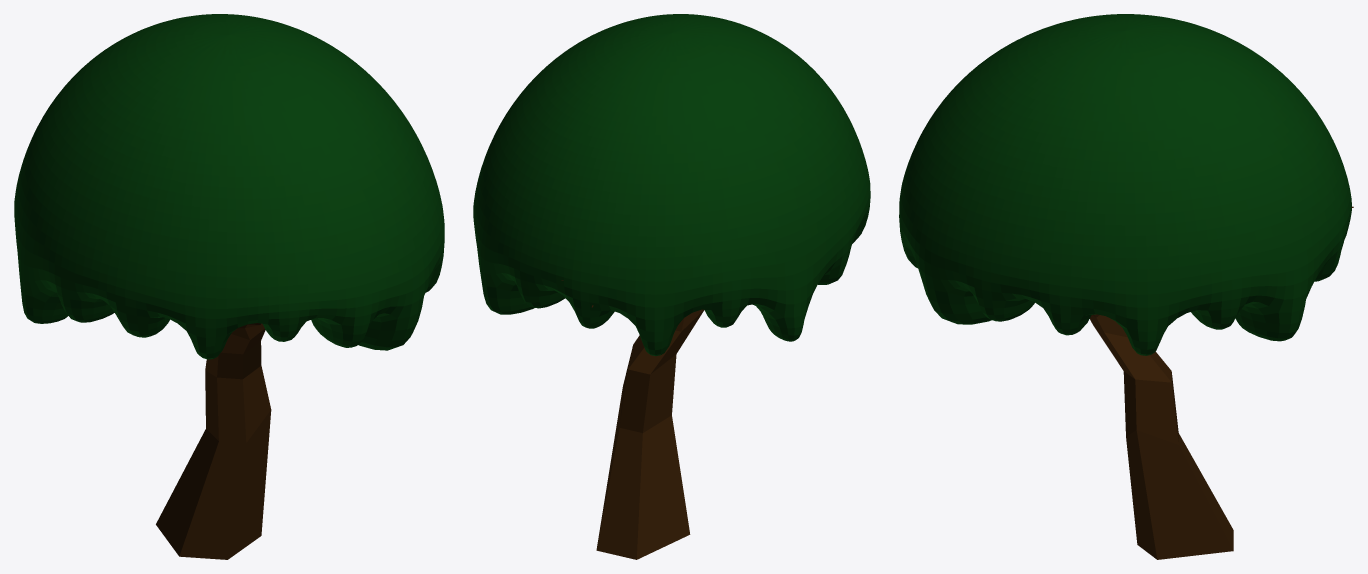
The model's file is WillowTree.fbx.
3 renders of one model, left to right at view 1: azimuth 30°, elevation 25°; view 2: azimuth 150°, elevation 25°; view 3: azimuth 270°, elevation 25°, orthographic. The views are drawn at different scales.
Parts seen in each view (by area): view 1: Tree, Trunk; view 2: Tree, Trunk; view 3: Tree, Trunk.
Part boxes in pixels (x1,y1,x2,y2): Tree: (14,14,444,359); Trunk: (156,323,271,559); Tree: (473,14,870,356); Trunk: (561,280,704,559); Tree: (899,14,1351,355); Trunk: (1090,206,1353,559).
Size of the model in its own units: 308 by 432 by 347.
